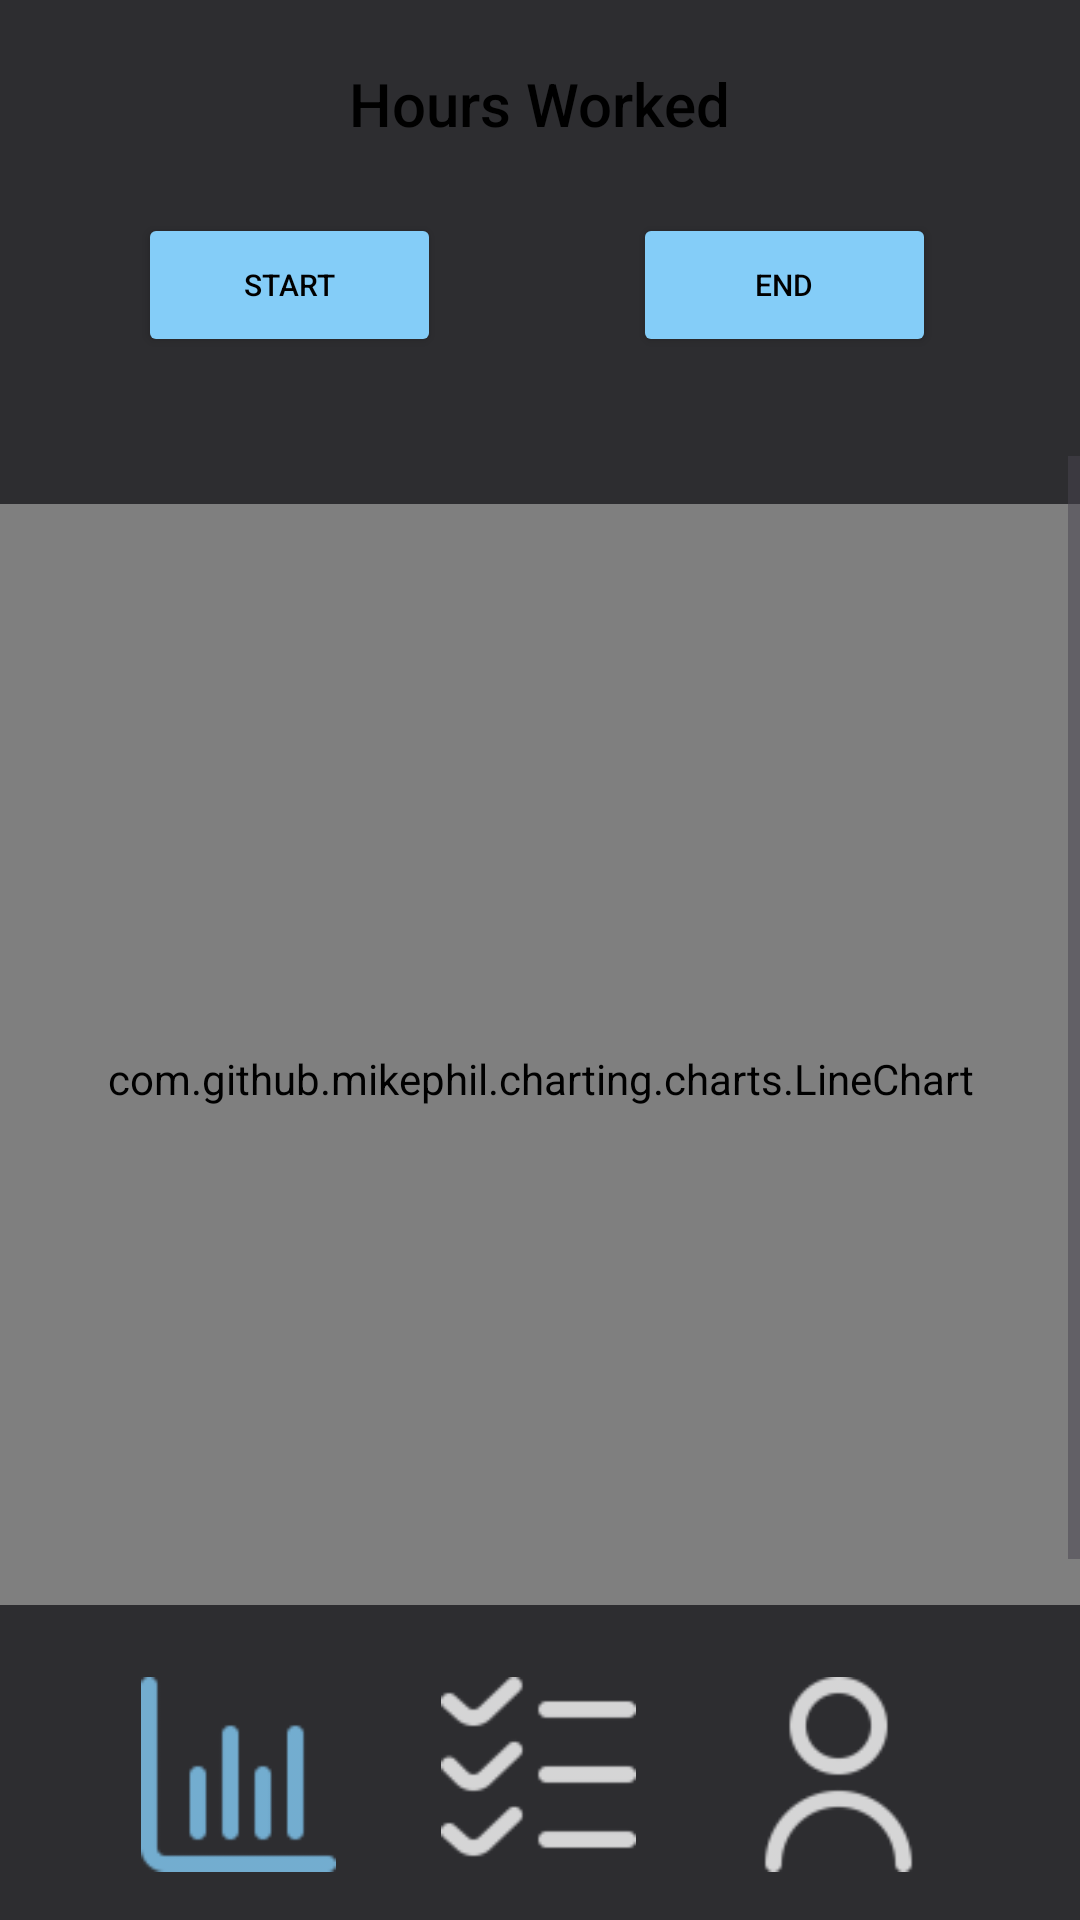

Screen size 1080 × 1920. Icon name, then its box in pixels as Rect(x1, y1, x2, y2):
profilewhite: Rect(764, 1677, 913, 1872)
progressblue: Rect(141, 1677, 336, 1872)
timehseetwhite: Rect(441, 1677, 636, 1857)
